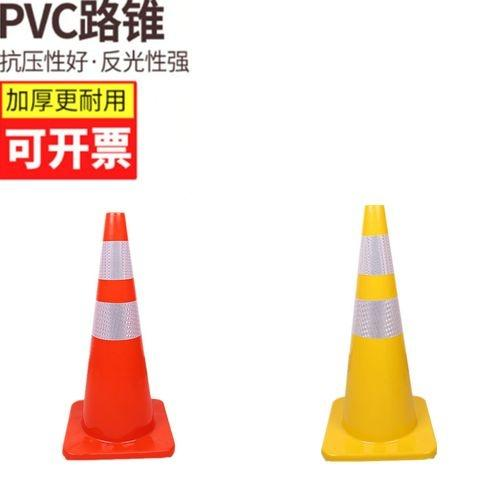cone_barrel: (315, 206, 438, 459), (61, 214, 175, 454)
